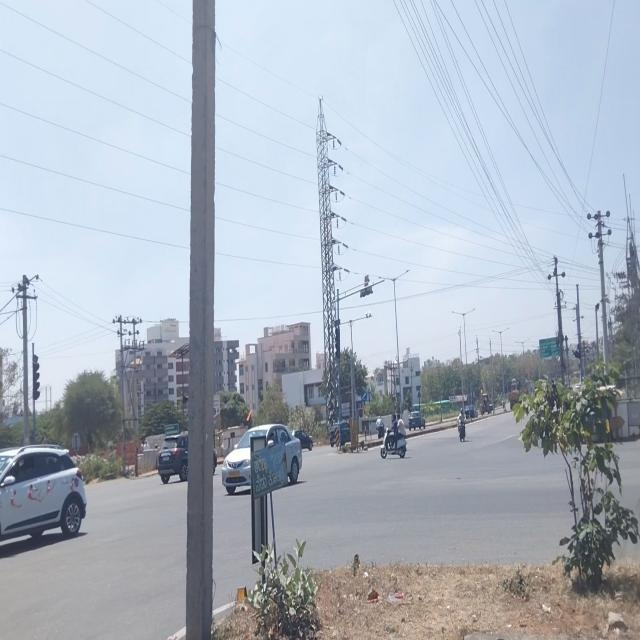bien_nguy_hiem: (360, 388, 368, 403)
